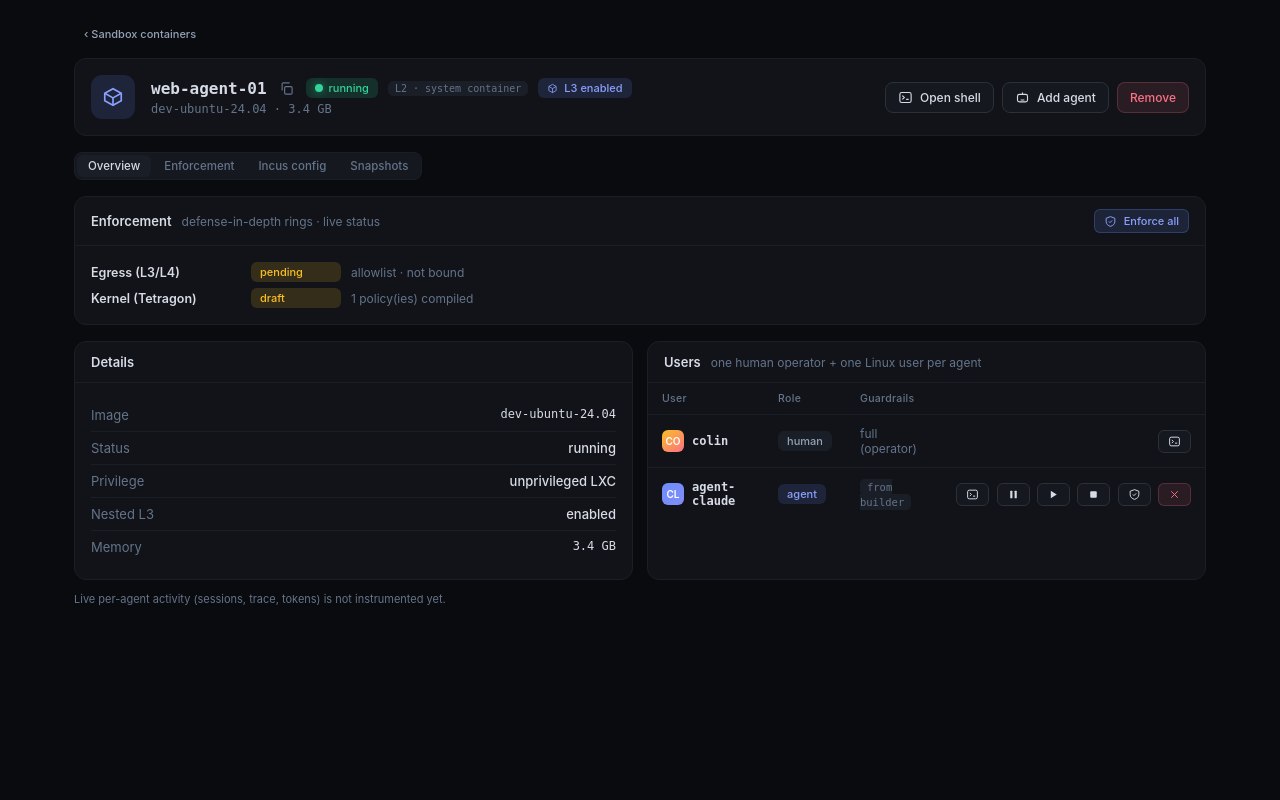
Test: SandboxDetail › tabs hide other sections until selected
expect the text "Egress (L3/L4)" is shown: met, box [91,264,180,280]
expect the text "Network egress" is not shown: met
Click the button "Enforcement" at (199, 166), box [153,155,246,177]
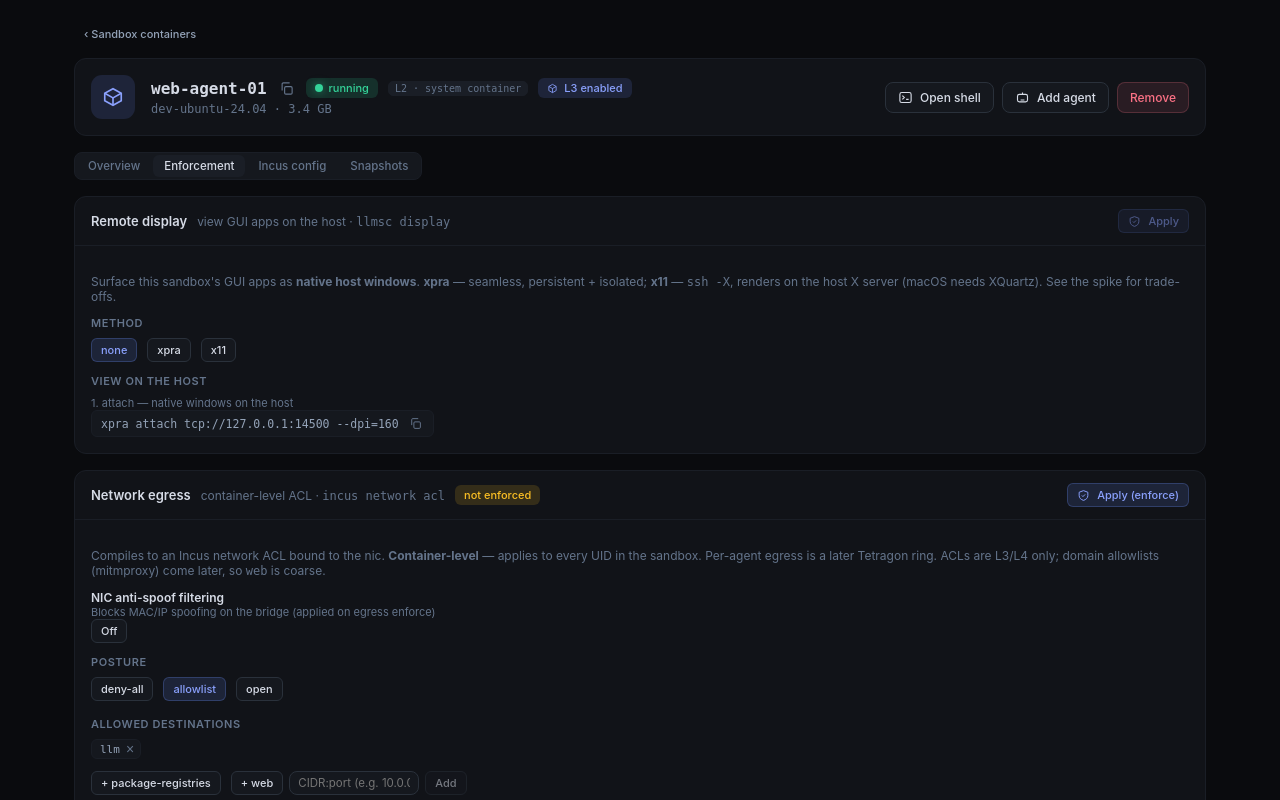
expect the heading "Network egress" is shown: met, box [91,487,191,503]
